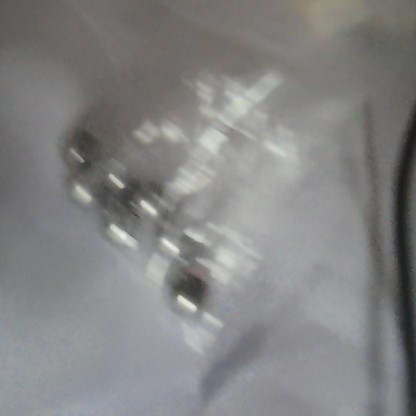ironball: (164, 269, 210, 321), (159, 213, 204, 258), (57, 126, 101, 170), (127, 184, 168, 226), (65, 171, 104, 215), (104, 215, 139, 254), (101, 162, 137, 198)
